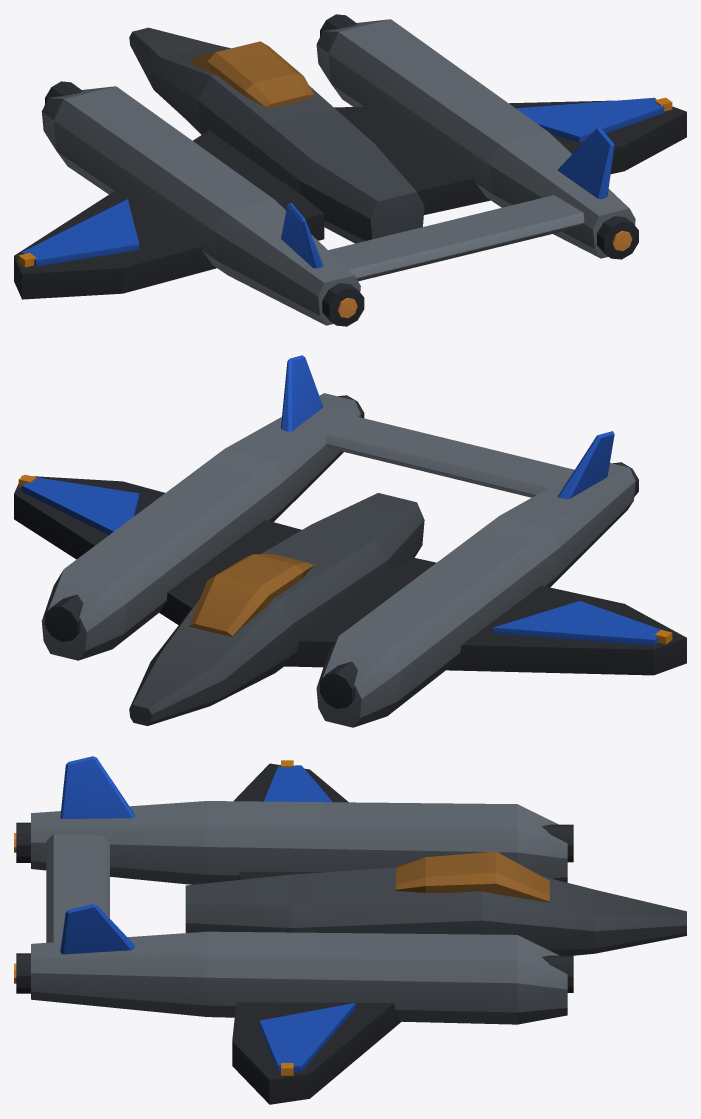
File: raptor.glb
3 renders of one model, top to bottom at view 1: azimuth 30°, elevation 25°; view 2: azimuth 150°, elevation 25°; view 3: azimuth 270°, elevation 25°, orthographic. The views are drawn at different scales.
Parts seen in each view (by area): view 1: hull; view 2: hull; view 3: hull.
Boxes of the visible parts, x1=… form: hull: x1=14, y1=14, x2=686, y2=326; hull: x1=14, y1=355, x2=686, y2=727; hull: x1=14, y1=756, x2=686, y2=1104.
Size of the model in its own units: 1.06 by 0.1911 by 0.953.
